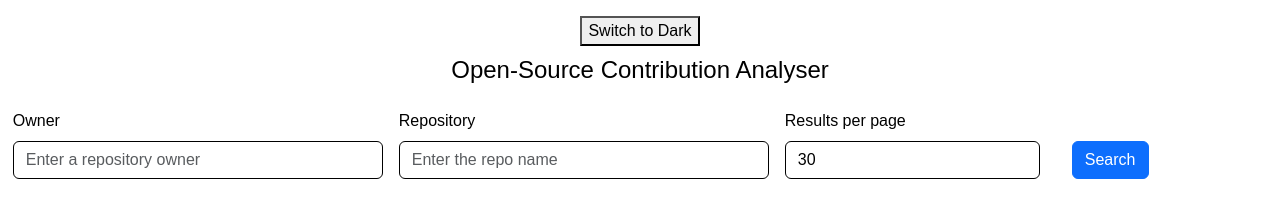
it: Home Component › handles API error correctly
In the field with test id "home-owner-input": (198, 160) x1=13 y1=141 x2=383 y2=179, type "invalid"
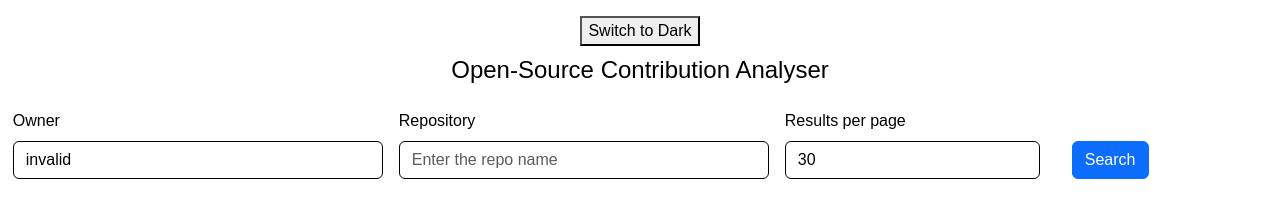
In the field with test id "home-repo-input": (584, 160) x1=399 y1=141 x2=769 y2=179, type "repo"
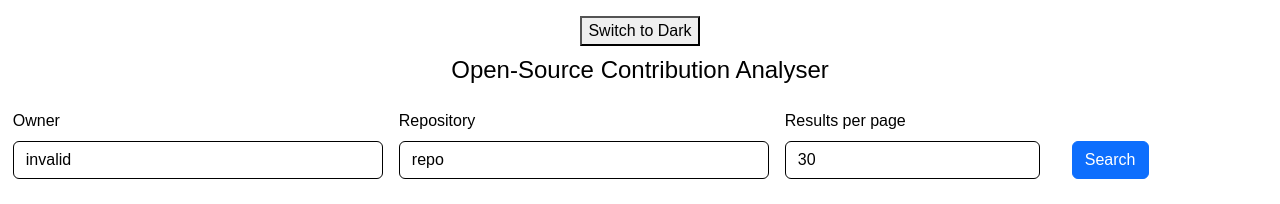
Submit the form with test id "home-search-button", box x1=13 y1=93 x2=1267 y2=179
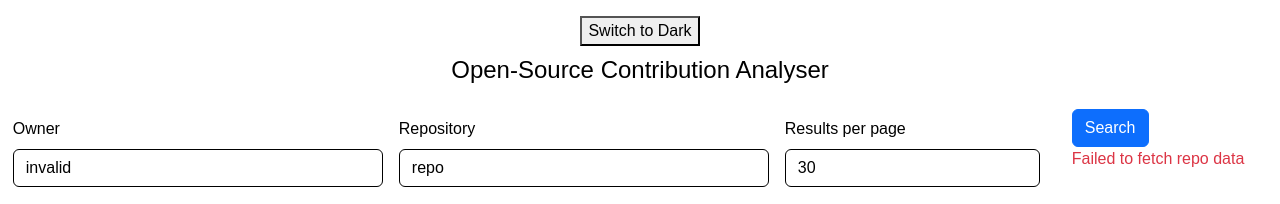
Now the text "Failed to fetch repo data" is shown, box x1=1072 y1=147 x2=1244 y2=171
